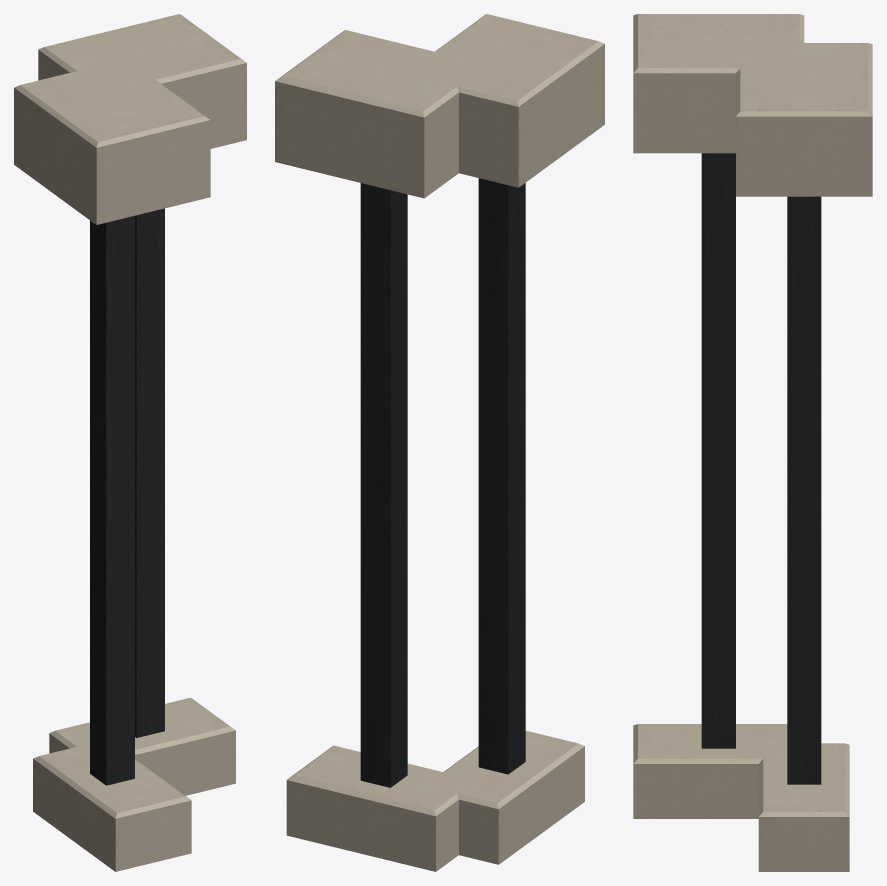
The model's file is porch_railing_corner.glb.
The picture shows the model from 3 angles, left to right: view 1: azimuth 30°, elevation 25°; view 2: azimuth 150°, elevation 25°; view 3: azimuth 270°, elevation 25°; orthographic projection. The views are drawn at different scales.
Visible parts, largest first — view 1: outdoor_porch_railing_corner; view 2: outdoor_porch_railing_corner; view 3: outdoor_porch_railing_corner.
Boxes of the visible parts, x1,y1,x2,y2 form: outdoor_porch_railing_corner: [14, 14, 246, 871]; outdoor_porch_railing_corner: [275, 14, 604, 871]; outdoor_porch_railing_corner: [633, 14, 872, 871].
Bounding box in the file's own units: 0.3 × 1.05 × 0.3.
2 materials, 2 textured.
